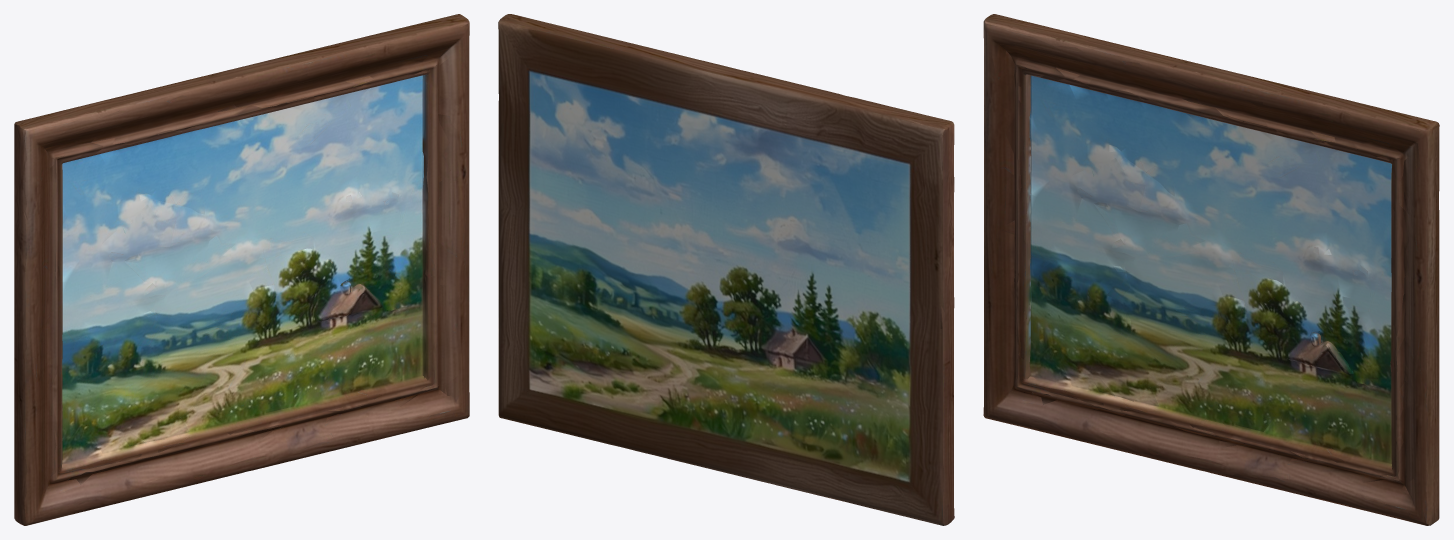
File: model_glb.glb
The picture shows the model from 3 angles, left to right: view 1: azimuth 30°, elevation 25°; view 2: azimuth 150°, elevation 25°; view 3: azimuth 330°, elevation 25°; orthographic projection.
Parts seen in each view (by area): view 1: geometry_0; view 2: geometry_0; view 3: geometry_0.
Part boxes in pixels (box(x1,y1,x2,y2)): geometry_0: box(14, 14, 469, 525); geometry_0: box(498, 14, 954, 525); geometry_0: box(983, 14, 1439, 525).
Size of the model in its own units: 0.6 by 0.5106 by 0.0314.
Materials: 1 (1 with a texture image).
